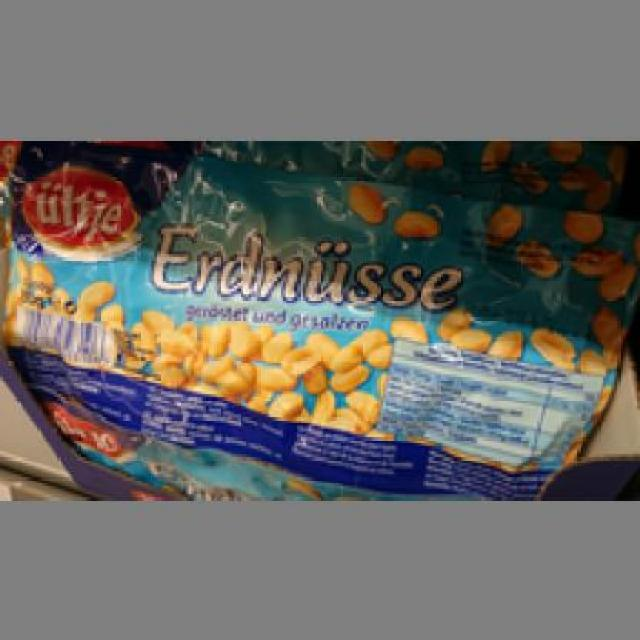Nuts: (0, 140, 637, 497)
